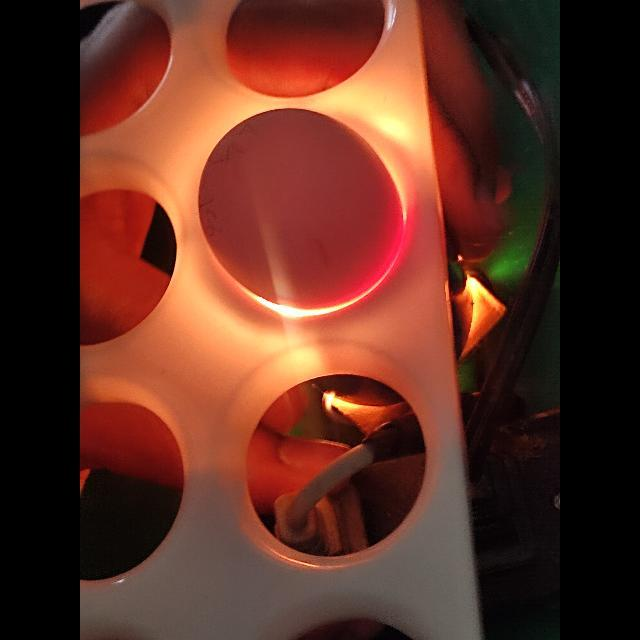Fertile: (202, 101, 410, 315)
